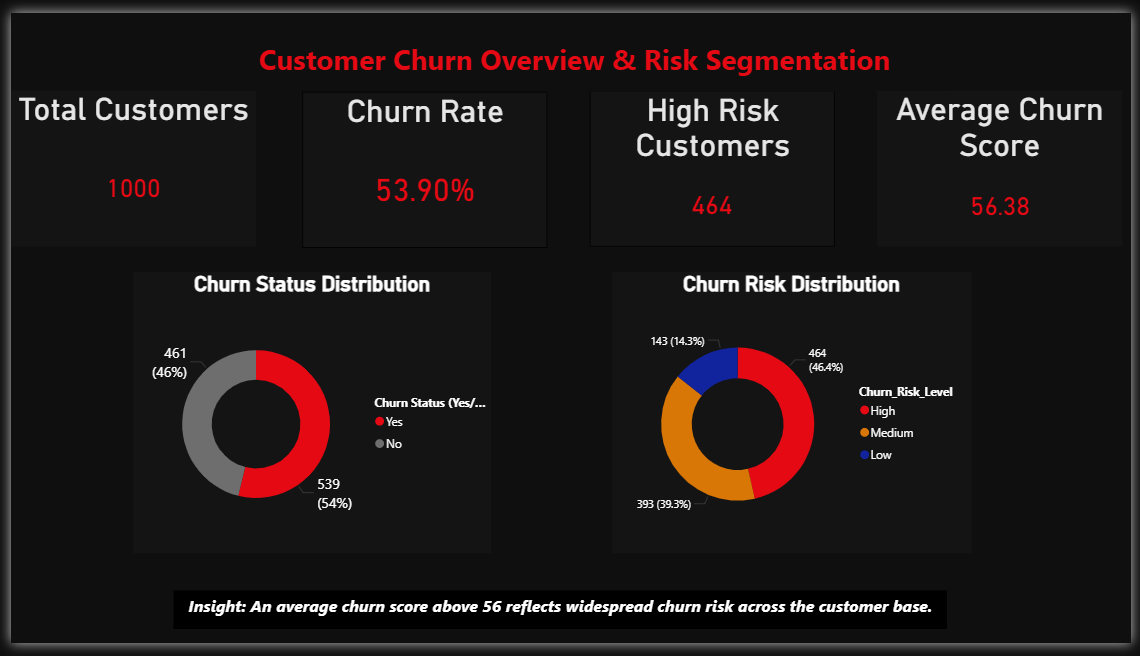

Layout of this report page (visuals, bound fields, positions):
{"tool":"powerbi","page":{"name":"Page 1","canvas":[1280,720],"ordinal":0},"visuals":[{"type":"card","title":"Total Customers","fields":{"Values":["Sheet1.Total Customers"]},"box":[0,88.6,280,178.6],"z":0},{"type":"card","title":"Churn Rate","fields":{"Values":["Sheet1.Churn Rate (%)"]},"box":[332.9,90,280,178.6],"z":1000},{"type":"card","title":"High Risk Customers","fields":{"Values":["Sheet1.High Risk Customers"]},"box":[661.4,88.6,280,178.6],"z":2000},{"type":"card","title":"Average Churn Score","fields":{"Values":["Sheet1.Avg Churn Score"]},"box":[990,88.6,280,178.6],"z":3000},{"type":"donutChart","title":"Churn Status Distribution","fields":{"Category":["Sheet1.Churn Status (Yes/No)"],"Y":["Sheet1.Total Customers"]},"box":[140,295.7,408.6,321.4],"z":4000},{"type":"donutChart","title":"Churn Risk Distribution","fields":{"Category":["Sheet1.Churn_Risk_Level"],"Y":["Sheet1.Total Customers"]},"box":[687.1,295.7,410,321.4],"z":5000},{"type":"textbox","box":[218.6,25.7,851.4,62.9],"z":5001},{"type":"textbox","box":[185.7,660,884.3,44.3],"z":5002}]}

Visuals, with their boxes in screenshot pixels (x1, y1, x2, y2), scaled from the page's 1280x720 canvas onto the 1140x656 screenshot:
"Total Customers" card: [0, 81, 249, 243]
"Churn Rate" card: [296, 82, 546, 245]
"High Risk Customers" card: [589, 81, 838, 243]
"Average Churn Score" card: [882, 81, 1131, 243]
"Churn Status Distribution" donutChart: [125, 269, 489, 562]
"Churn Risk Distribution" donutChart: [612, 269, 977, 562]
textbox: [195, 23, 953, 81]
textbox: [165, 601, 953, 642]
